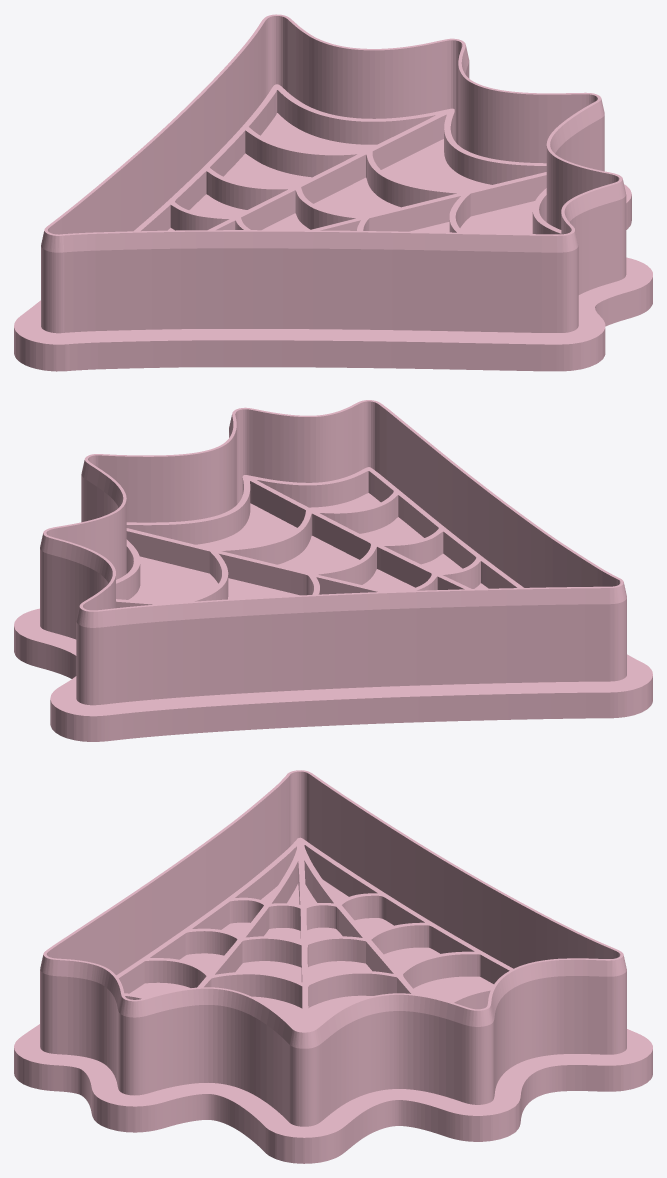
The model's file is cortador-telarana.glb.
3 renders of one model, top to bottom at view 1: azimuth 30°, elevation 25°; view 2: azimuth 150°, elevation 25°; view 3: azimuth 270°, elevation 25°, orthographic. The views are drawn at different scales.
Visible parts, largest first — view 1: pieza; view 2: pieza; view 3: pieza.
Part boxes in pixels (x1,y1,x2,y2): pieza: [14, 14, 652, 371]; pieza: [14, 400, 652, 741]; pieza: [14, 770, 652, 1163].
Size of the model in its own units: 0.083 by 0.016 by 0.078.
